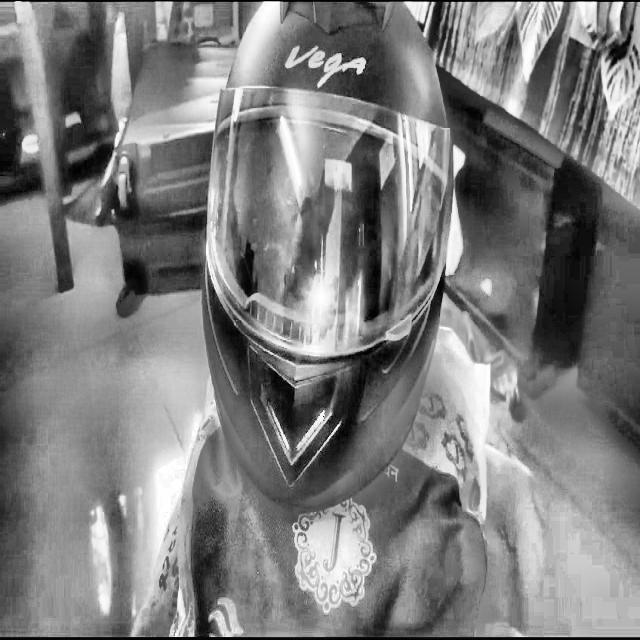Helmet: (196, 0, 465, 526)
